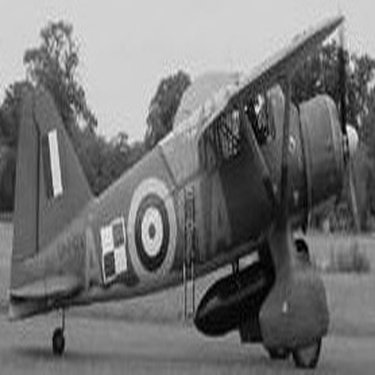airplane: (1, 2, 369, 371)
